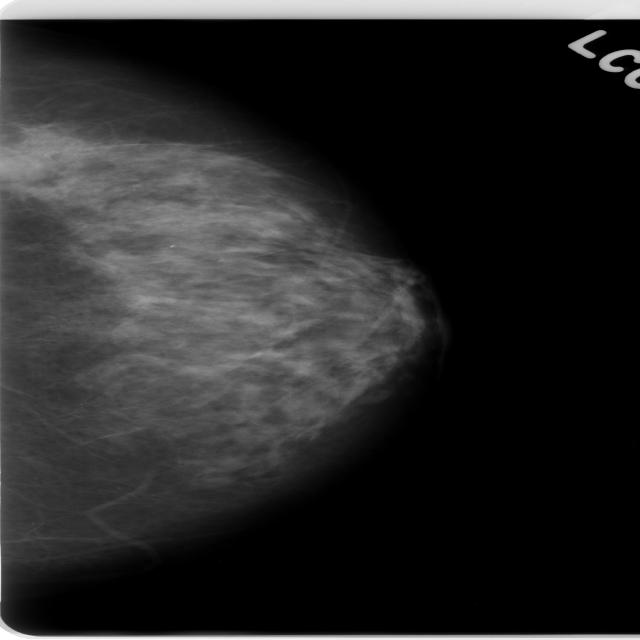normal: (0, 45, 447, 594)
